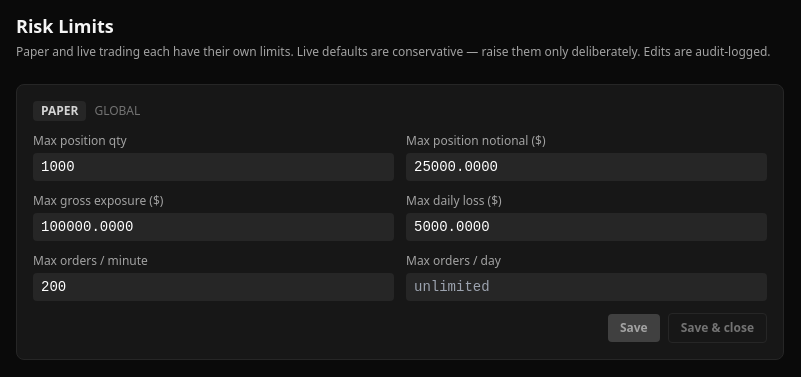
Test: Settings → Risk Limits save feedback › clears a stale confirmation as soon as the user edits again
Step 1. Replace the text in the field labelled "Max gross exposure ($)" with "110000" → {"x": 214, "y": 227}, box [33,213,394,241]
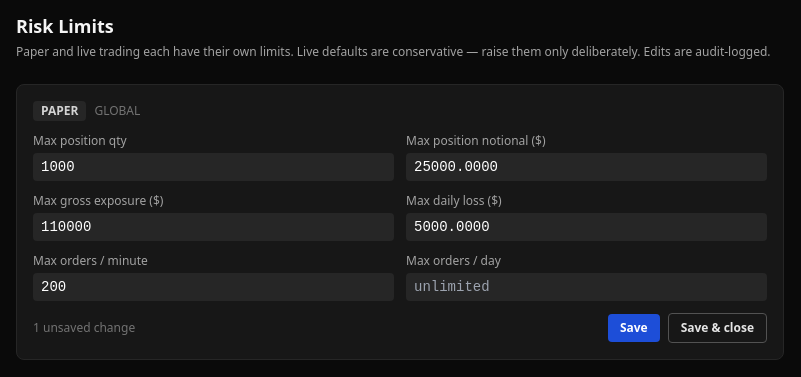
Step 2. Click the button "Save" → {"x": 634, "y": 328}, box [608,314,660,342]
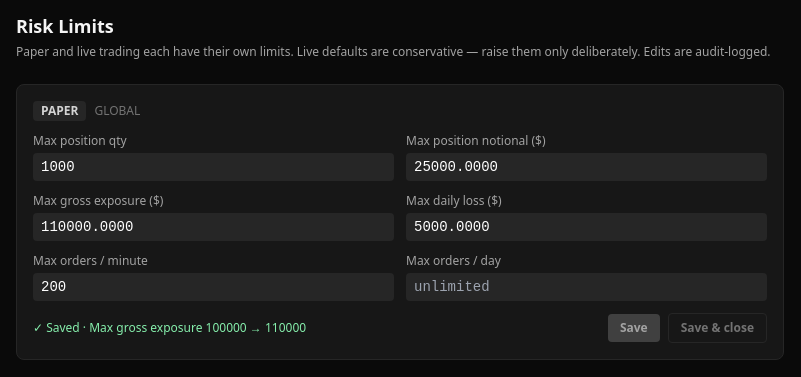
Result: the message "✓ Saved · Max gross exposure 100000 → 110000" is shown at [33,320,306,336]
Step 3. Replace the text in the field labelled "Max gross exposure ($)" with "120000" → {"x": 214, "y": 227}, box [33,213,394,241]
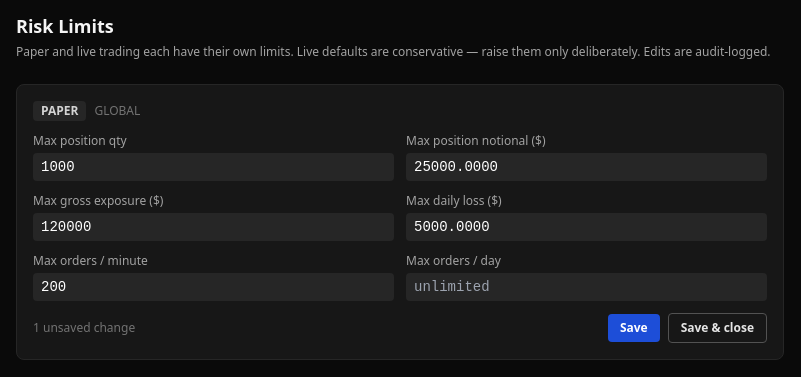
Result: the message "✓ Saved · Max gross exposure 100000 → 110000" is gone
